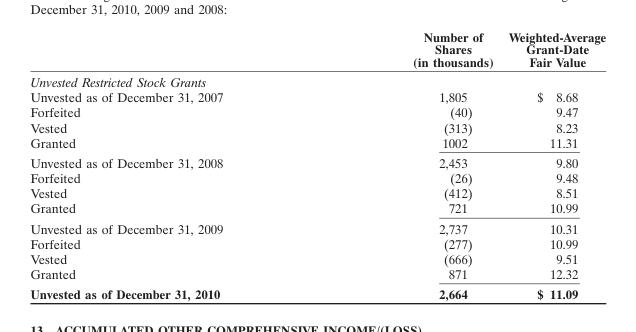table: (29, 28, 605, 301)
table column: (29, 28, 317, 301), (317, 28, 500, 301), (500, 28, 605, 301)
table column header: (29, 28, 605, 71)
table projected row header: (29, 71, 605, 89)
table row: (29, 28, 605, 71), (29, 71, 605, 89), (29, 134, 605, 152), (29, 152, 605, 170), (29, 200, 605, 218), (29, 265, 605, 283), (29, 283, 605, 301), (29, 218, 605, 235), (29, 89, 605, 104), (29, 104, 605, 119), (29, 119, 605, 134), (29, 170, 605, 185), (29, 185, 605, 200), (29, 235, 605, 250), (29, 250, 605, 265)
